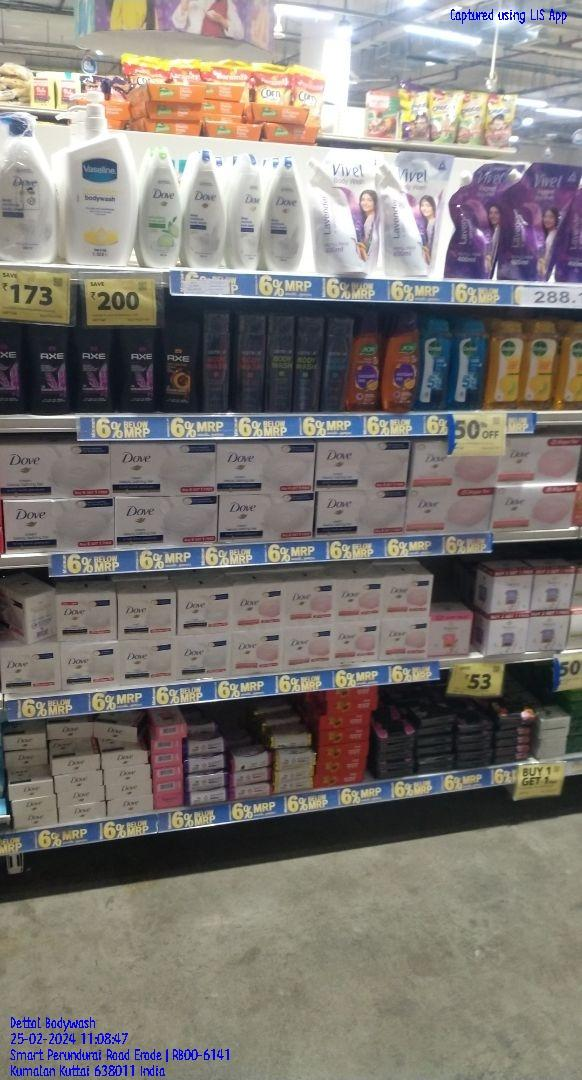Dettol_Bodywash_Cool: (421, 318, 452, 410), (455, 317, 485, 411)
Dettol_Bodywash_Refresh: (490, 319, 521, 409), (525, 322, 555, 409), (561, 322, 582, 408)
Dove_Deep_Moisture_Body_Wash_250ML: (184, 149, 225, 268), (265, 157, 307, 273), (230, 152, 264, 271)
Dove_Refreshing_Body_Wash_250ML: (136, 149, 181, 268)
Joy_Shower_Gel_Mandarin_and_Lemongrass_250ML: (383, 311, 420, 412), (350, 317, 378, 411)
